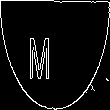M_N: (43, 29, 67, 81)
